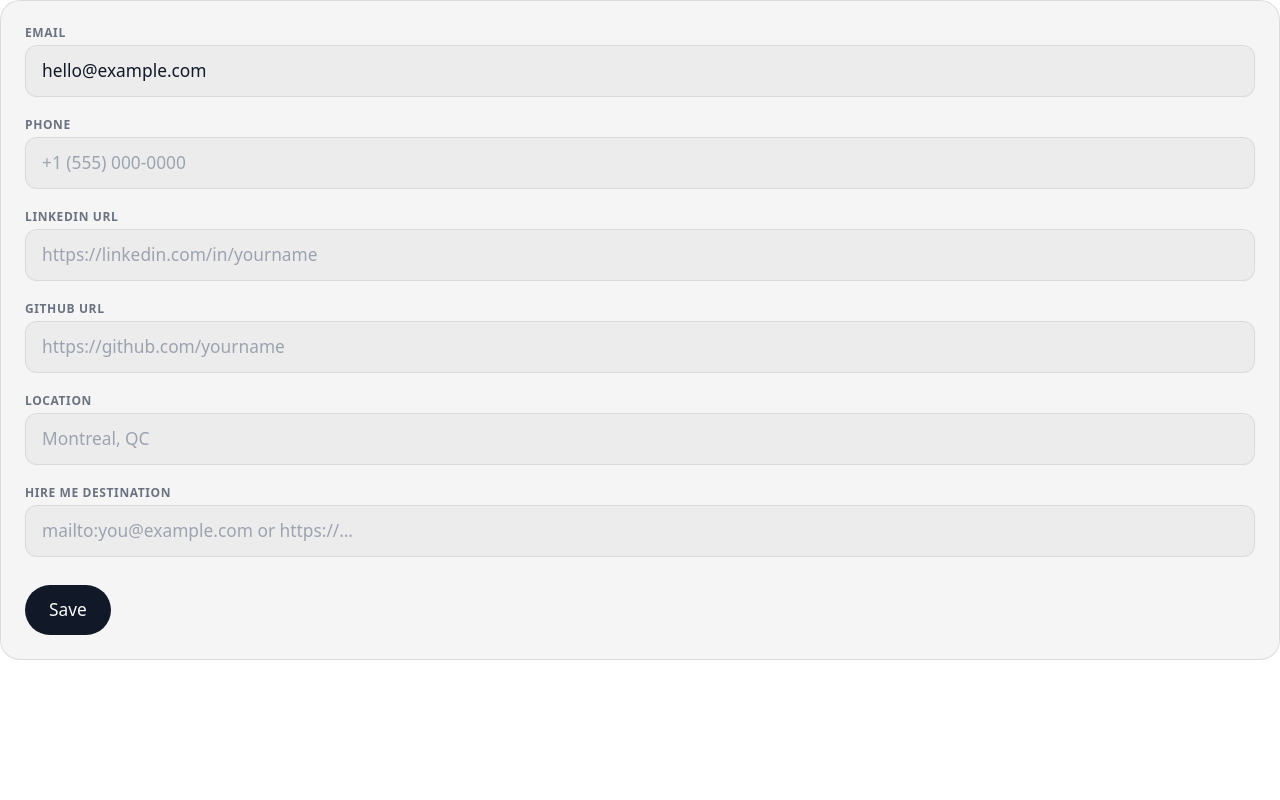
Test: ContactsEditorForm - save failure › re-enables the Save button after a failed save so the user can retry
What coordinates should you click on to do the following:
click the button "Save"
I would click on:
 (68, 610)
Its box is [25,585,111,635].
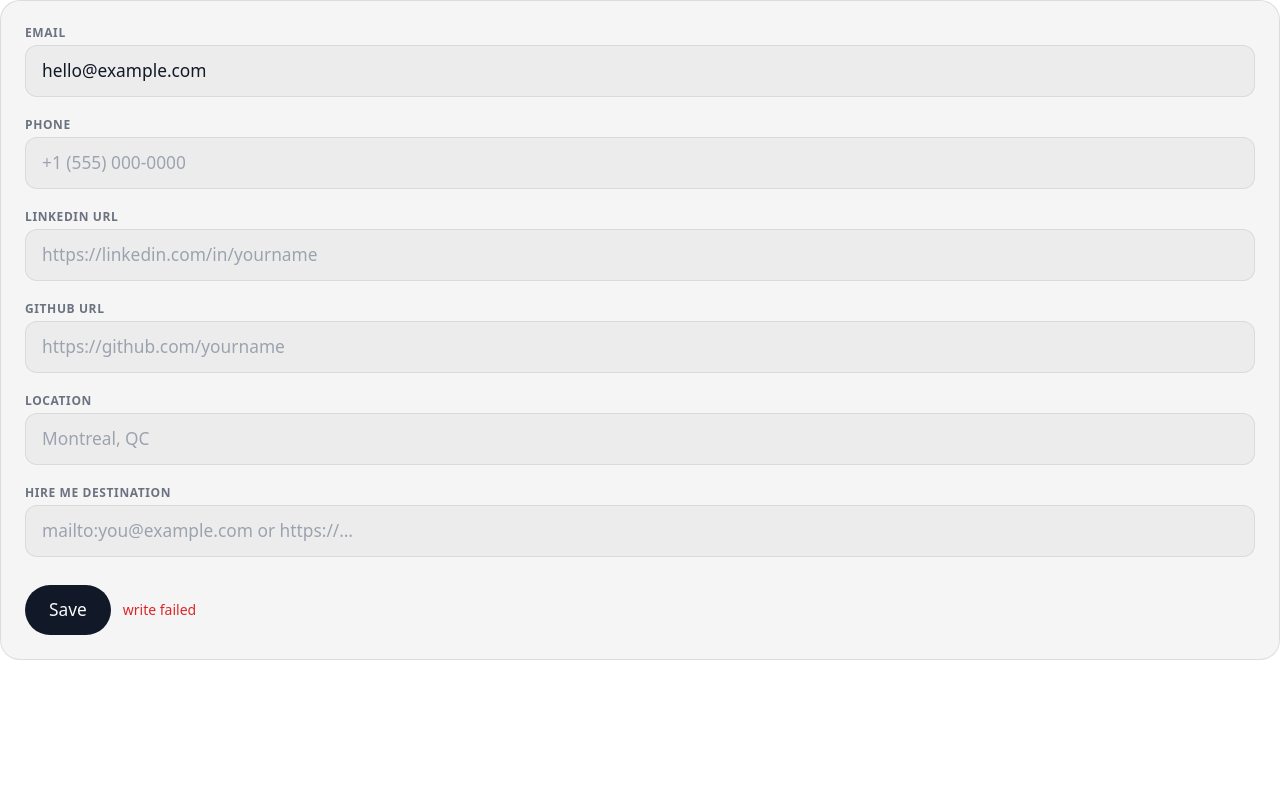
Check: the message reads "write failed", box [123,600,196,619]
